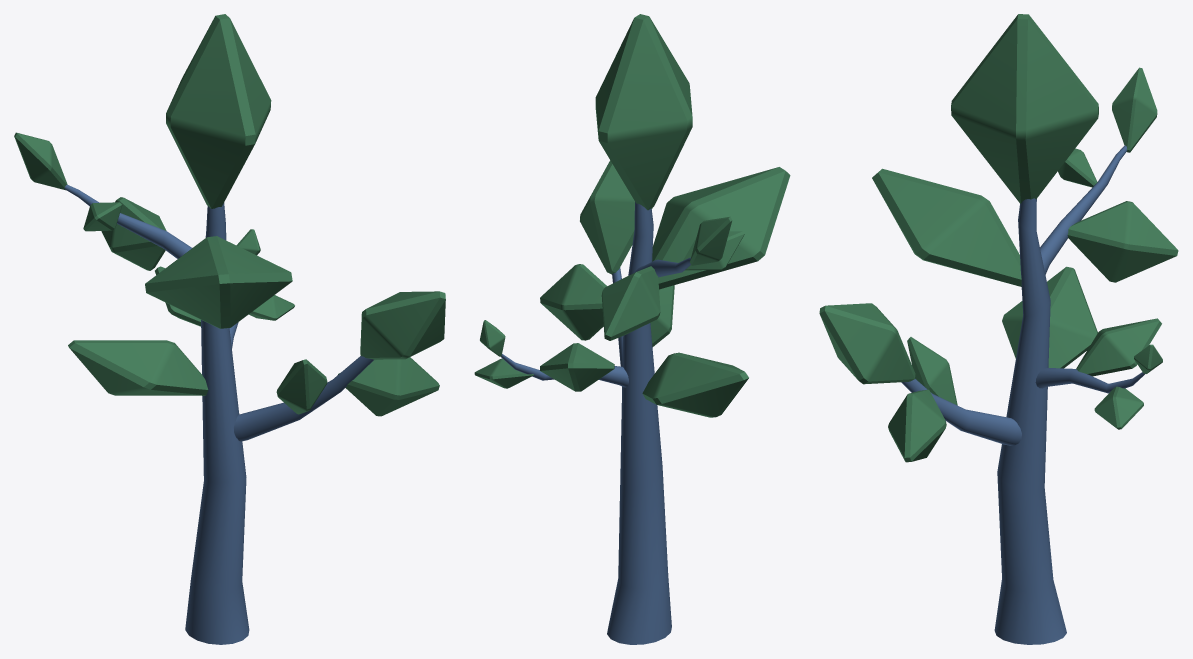
Rendered from Flute_Tree.fbx.
The picture shows the model from 3 angles, left to right: view 1: azimuth 30°, elevation 25°; view 2: azimuth 150°, elevation 25°; view 3: azimuth 270°, elevation 25°; orthographic projection.
Parts seen in each view (by area): view 1: Flute_Tree; view 2: Flute_Tree; view 3: Flute_Tree.
Boxes of the visible parts, x1,y1,x2,y2 form: Flute_Tree: (14, 14, 445, 644); Flute_Tree: (474, 14, 790, 644); Flute_Tree: (819, 14, 1178, 644).
Size of the model in its own units: 165 by 315 by 167.
